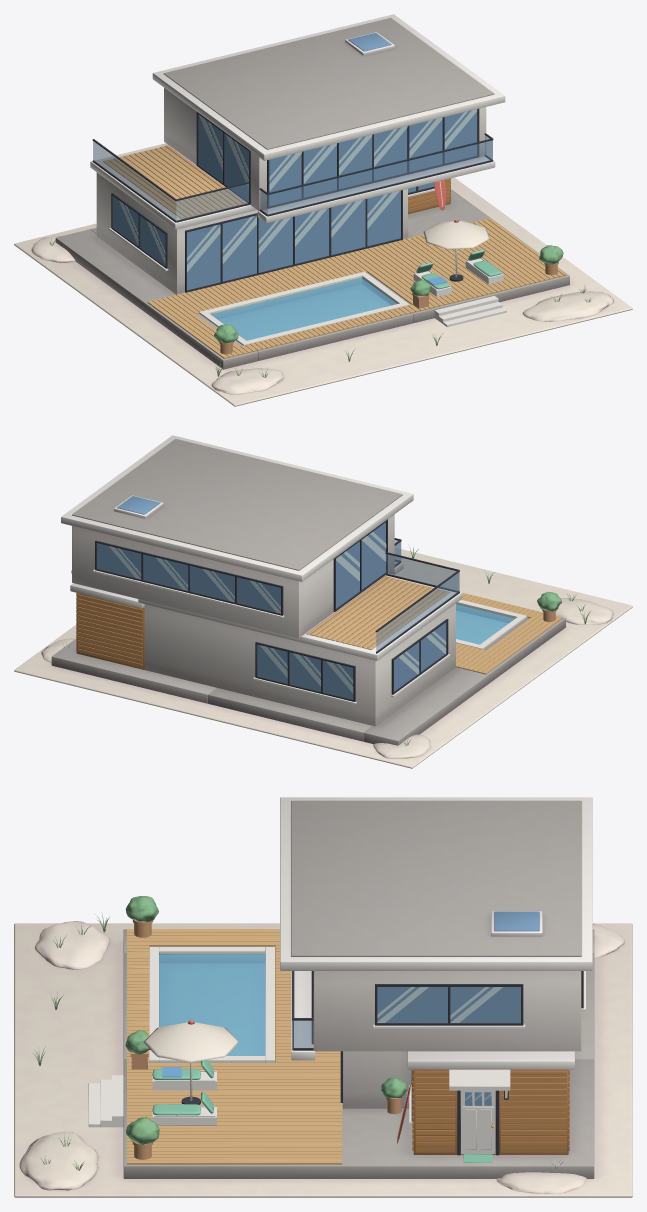
The model's file is luxury-beach-house.glb.
3 renders of one model, top to bottom at view 1: azimuth 30°, elevation 25°; view 2: azimuth 150°, elevation 25°; view 3: azimuth 270°, elevation 25°, orthographic. The views are drawn at different scales.
Parts seen in each view (by area): view 1: luxury-beach-house_body, luxury-beach-house_details, luxury-beach-house_railing_glass, luxury-beach-house_pool_water, luxury-beach-house_glints, luxury-beach-house_details_parasol, luxury-beach-house_plants, luxury-beach-house; view 2: luxury-beach-house_body, luxury-beach-house_details, luxury-beach-house_railing_glass, luxury-beach-house_glints, luxury-beach-house_pool_water; view 3: luxury-beach-house_body, luxury-beach-house_details, luxury-beach-house_pool_water, luxury-beach-house_details_parasol, luxury-beach-house_door_l, luxury-beach-house_plants, luxury-beach-house, luxury-beach-house_glints, luxury-beach-house_railing_glass, luxury-beach-house_frame.
Part boxes in pixels (box(x1,y1,x2,y2)): luxury-beach-house_body: box(14, 14, 632, 406); luxury-beach-house_details: box(92, 108, 566, 358); luxury-beach-house_railing_glass: box(93, 135, 492, 220); luxury-beach-house_pool_water: box(211, 278, 396, 340); luxury-beach-house_glints: box(119, 109, 477, 272); luxury-beach-house_details_parasol: box(423, 219, 489, 249); luxury-beach-house_plants: box(214, 245, 563, 343); luxury-beach-house: box(416, 250, 501, 289); luxury-beach-house_body: box(14, 435, 632, 768); luxury-beach-house_details: box(71, 519, 562, 704); luxury-beach-house_railing_glass: box(376, 540, 459, 651); luxury-beach-house_glints: box(109, 532, 446, 693); luxury-beach-house_pool_water: box(456, 604, 514, 644); luxury-beach-house_body: box(14, 797, 632, 1197); luxury-beach-house_details: box(88, 919, 585, 1164); luxury-beach-house_pool_water: box(159, 954, 265, 1055); luxury-beach-house_details_parasol: box(143, 1019, 239, 1062); luxury-beach-house_door_l: box(460, 1090, 495, 1154); luxury-beach-house_plants: box(125, 896, 407, 1145); luxury-beach-house: box(152, 1060, 213, 1115); luxury-beach-house_glints: box(377, 987, 502, 1022); luxury-beach-house_railing_glass: box(293, 1020, 313, 1047); luxury-beach-house_frame: box(457, 1090, 499, 1155).
Size of the model in its own units: 20 by 7.53 by 19.2.
Materials: 20 (1 with a texture image).
